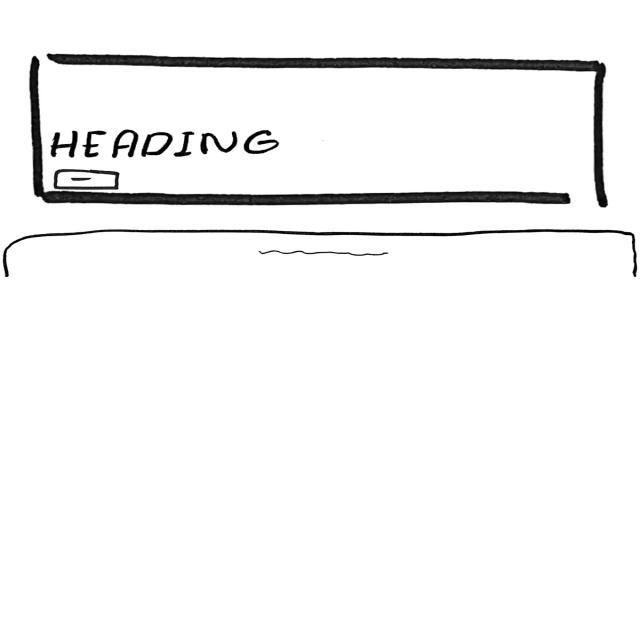container: (29, 53, 606, 207)
icon-button: (51, 170, 122, 192)
label: (49, 128, 282, 161)
text: (258, 249, 394, 261)
